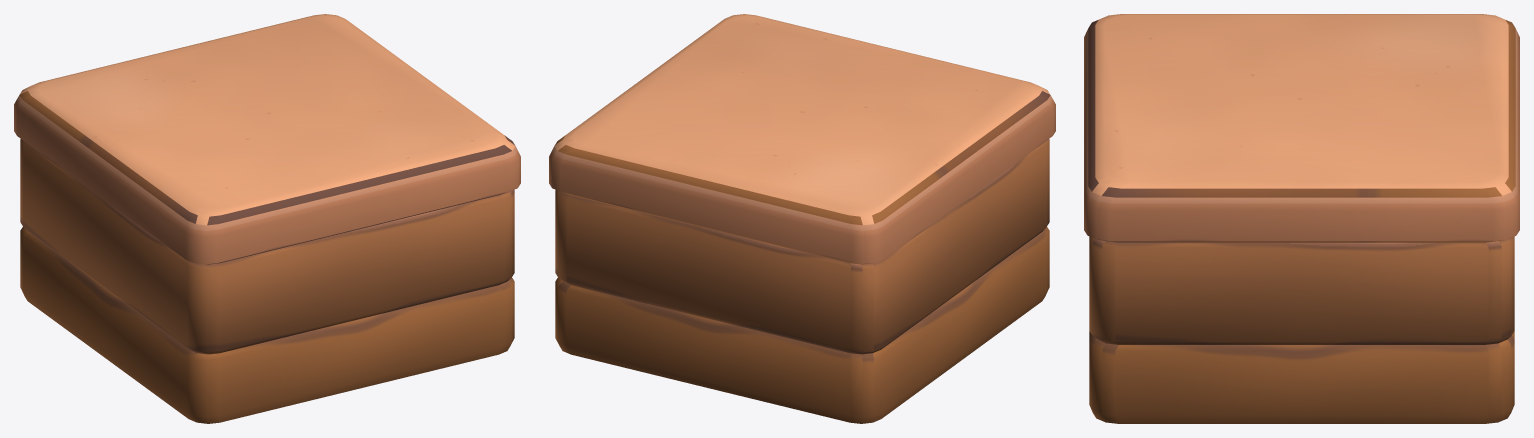
File: ground_block.glb
3 views of the same model, side by side, from view 1: azimuth 30°, elevation 25°; view 2: azimuth 150°, elevation 25°; view 3: azimuth 270°, elevation 25° (orthographic). The views are drawn at different scales.
Parts seen in each view (by area): view 1: ground_block; view 2: ground_block; view 3: ground_block.
Boxes of the visible parts, x1,y1,x2,y2 form: ground_block: (14,14,520,423); ground_block: (549,14,1055,423); ground_block: (1084,14,1519,423).
Size of the model in its own units: 1 by 0.6 by 1.
2 materials, 2 textured.
